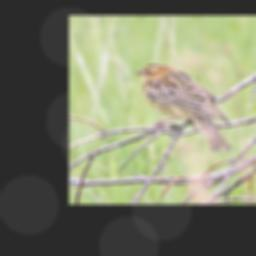Sparrow: (133, 62, 233, 155)
